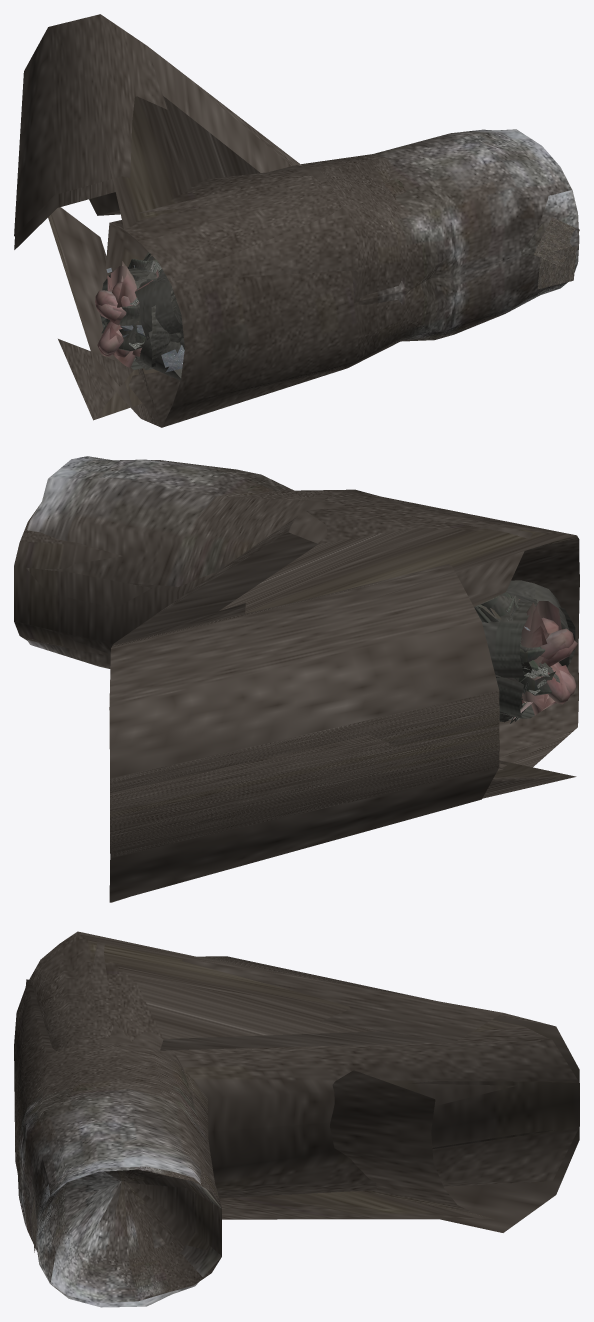
The model's file is viewmodel_hands_russian.glb.
3 renders of one model, top to bottom at view 1: azimuth 30°, elevation 25°; view 2: azimuth 150°, elevation 25°; view 3: azimuth 270°, elevation 25°, orthographic. The views are drawn at different scales.
Bounding box in the file's own units: 13.34 × 6.21 × 14.45.
Materials: 4 (4 with a texture image).
